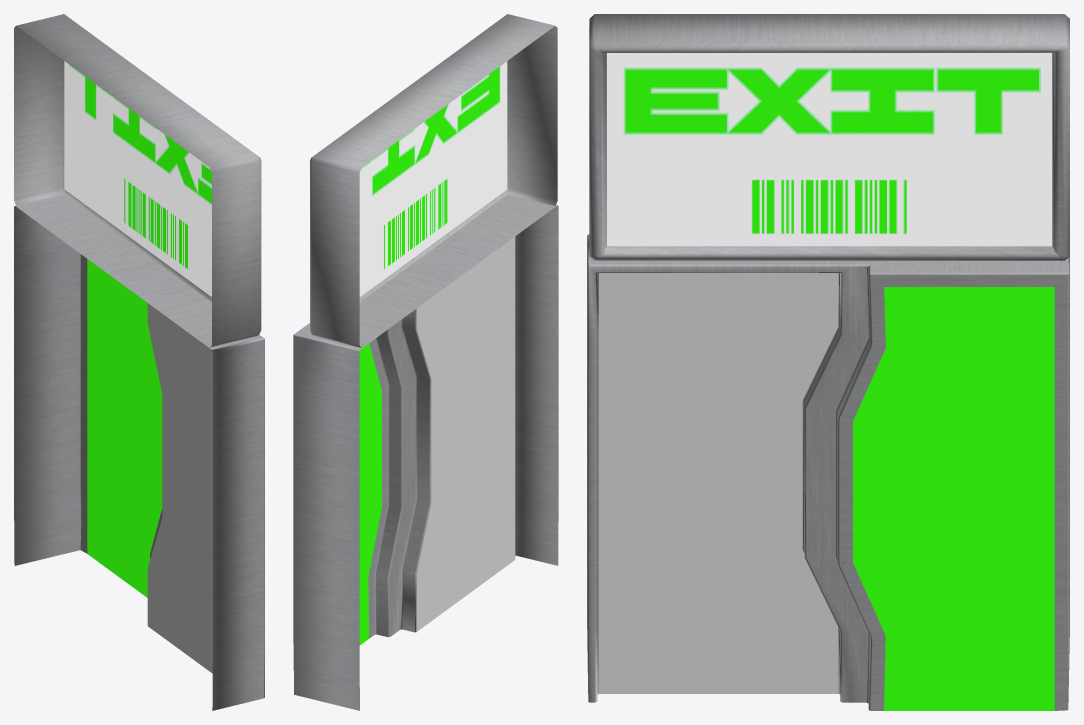
File: Door.glb
3 renders of one model, left to right at view 1: azimuth 30°, elevation 25°; view 2: azimuth 150°, elevation 25°; view 3: azimuth 270°, elevation 25°, orthographic. The views are drawn at different scales.
Visible parts, largest first — view 1: Door; view 2: Door; view 3: Door.
Boxes of the visible parts, x1,y1,x2,y2 form: Door: (14, 14, 264, 710); Door: (293, 14, 558, 710); Door: (587, 14, 1069, 710).
Bounding box in the file's own units: 0.3893 × 3 × 2.
Materials: 3 (2 with a texture image).
